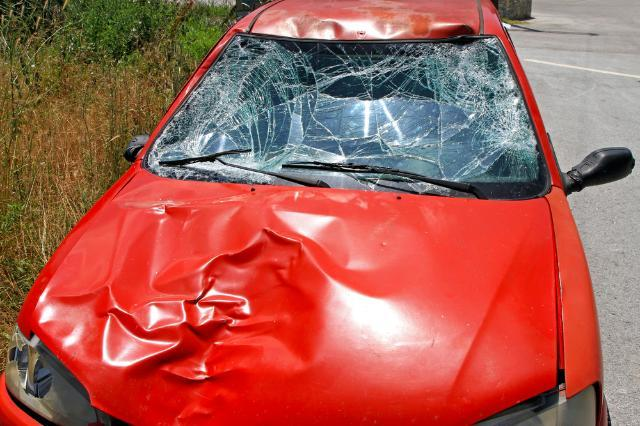dent: (40, 191, 433, 416), (253, 13, 470, 40)
glass shatter: (144, 34, 548, 199)
lamp broken: (6, 329, 102, 426)
